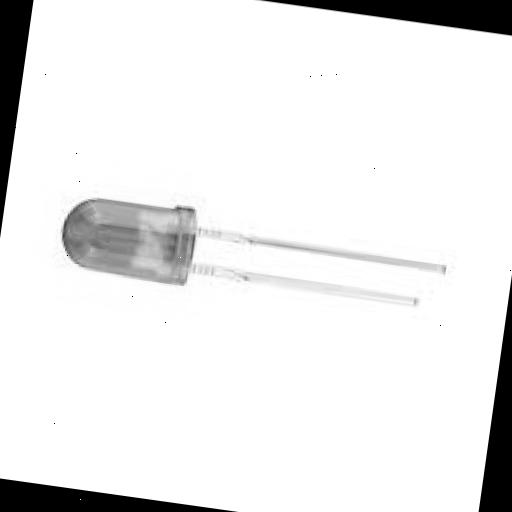LED: (53, 186, 452, 322)
